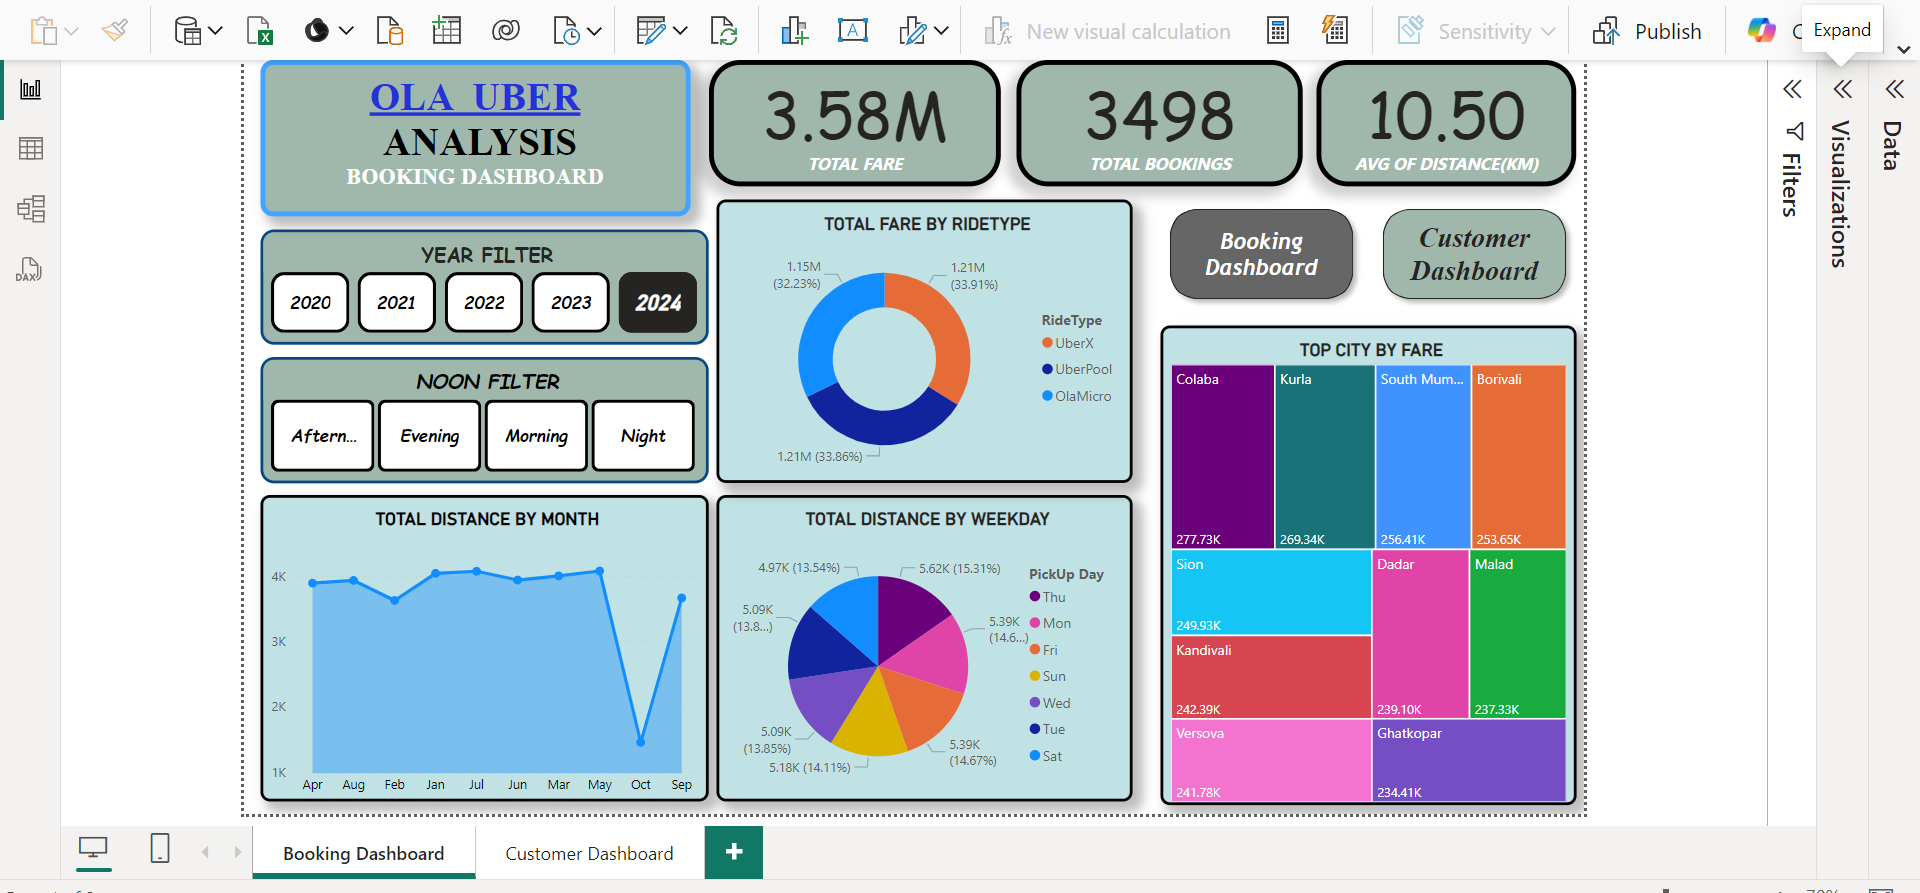

What the dashboard file says about the page in this screenshot:
{"tool":"powerbi","page":{"name":"Booking Dashboard","canvas":[1280,720],"ordinal":0},"visuals":[{"type":"card","fields":{"Values":["Sum(rides.Fare)"]},"box":[443.8,0,278.4,120.9],"z":0},{"type":"card","fields":{"Values":["CountNonNull(rides.RideID)"]},"box":[738,0,273.6,120.9],"z":1000},{"type":"card","fields":{"Values":["Avg(rides.Distance)"]},"box":[1024.4,0,248.1,120.9],"z":2000},{"type":"lineChart","title":"TOTAL DISTANCE BY MONTH","fields":{"Category":["rides.PickUpMonth"],"Y":["Sum(rides.Distance)"]},"box":[15.9,415.1,427.9,292.7],"z":3000},{"type":"pieChart","title":"TOTAL DISTANCE BY WEEKDAY","fields":{"Category":["rides.PickUp Day"],"Y":["Sum(rides.Distance)"]},"box":[451.7,415.1,397.7,292.7],"z":4000},{"type":"donutChart","title":"TOTAL FARE BY RIDETYPE","fields":{"Category":["rides.RideType"],"Y":["Sum(rides.Fare)"]},"box":[451.7,133.6,397.7,270.4],"z":5000},{"type":"treemap","title":"TOP CITY BY FARE","fields":{"Values":["Sum(rides.Fare)"],"Group":["rides.PickupLocation"]},"box":[874.8,252.9,397.7,458.1],"z":6000},{"type":"advancedSlicerVisual","title":"NOON FILTER","fields":{"Values":["rides.TimeSlot"]},"box":[15.9,283.1,427.9,120.9],"z":7000},{"type":"advancedSlicerVisual","title":"YEAR FILTER","fields":{"Values":["rides.Year"]},"box":[15.9,162.2,427.9,109.8],"z":8000},{"type":"textbox","box":[15.9,0,410.4,149.5],"z":9000},{"type":"pageNavigator","box":[874.8,133.6,397.7,105],"z":10000}]}

Visuals, with their boxes on the page's 1280x720 design canvas (x1, y1, x2, y2). These are canvas units, not pixel positions in the 1920x893 screenshot, which may show the page scaled, cropped or inside an application window:
card - Sum(rides.Fare): <region>444, 0, 722, 121</region>
card - CountNonNull(rides.RideID): <region>738, 0, 1012, 121</region>
card - Avg(rides.Distance): <region>1024, 0, 1272, 121</region>
"TOTAL DISTANCE BY MONTH" lineChart: <region>16, 415, 444, 708</region>
"TOTAL DISTANCE BY WEEKDAY" pieChart: <region>452, 415, 849, 708</region>
"TOTAL FARE BY RIDETYPE" donutChart: <region>452, 134, 849, 404</region>
"TOP CITY BY FARE" treemap: <region>875, 253, 1272, 711</region>
"NOON FILTER" advancedSlicerVisual: <region>16, 283, 444, 404</region>
"YEAR FILTER" advancedSlicerVisual: <region>16, 162, 444, 272</region>
textbox: <region>16, 0, 426, 150</region>
pageNavigator: <region>875, 134, 1272, 239</region>
